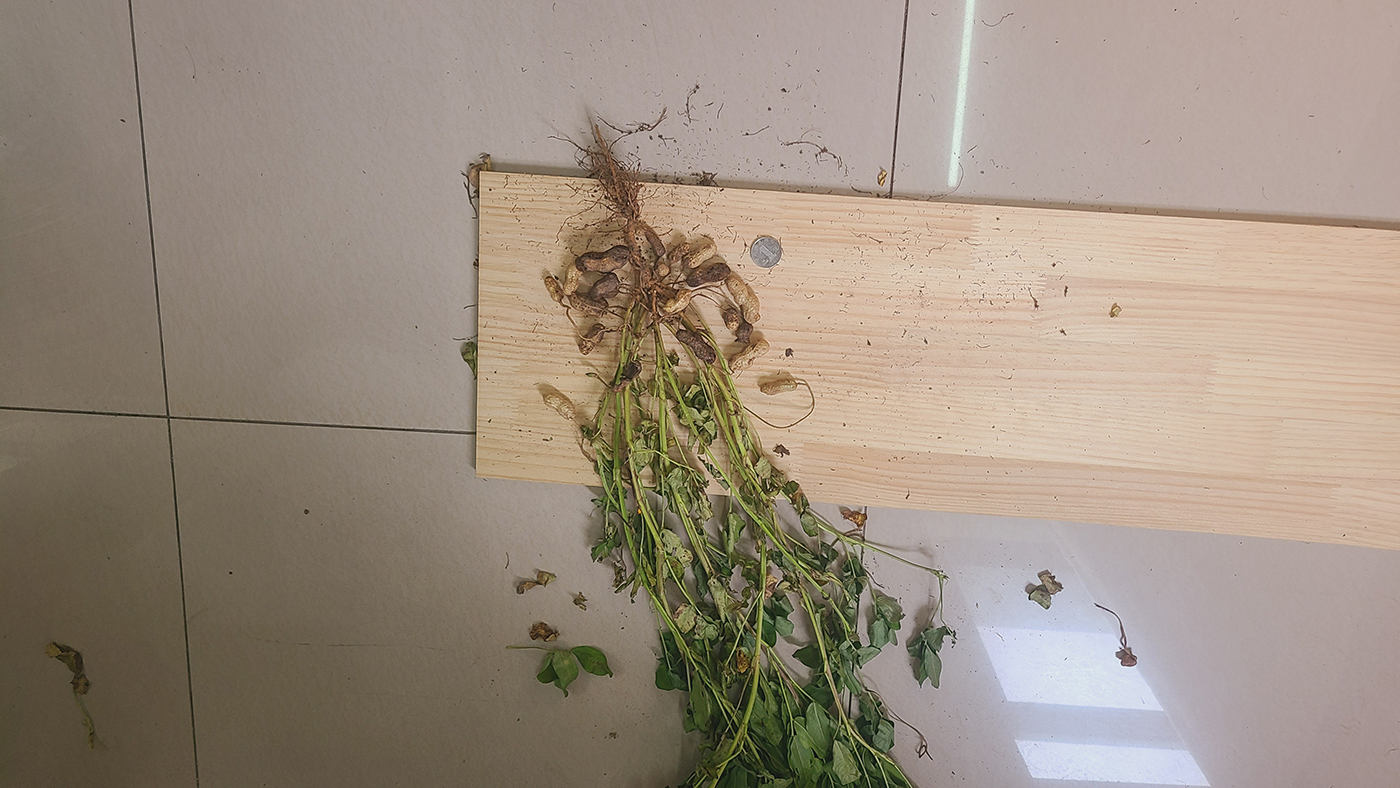h: (726, 278, 761, 323), (728, 338, 770, 371), (543, 392, 578, 421), (685, 244, 717, 268), (664, 289, 692, 315), (760, 378, 797, 396), (564, 262, 582, 296), (544, 276, 564, 303), (724, 307, 740, 331), (657, 264, 670, 276)
l: (576, 245, 631, 274), (675, 328, 717, 365), (687, 262, 732, 287), (612, 359, 643, 394), (570, 292, 609, 318), (589, 273, 620, 301), (580, 323, 605, 355), (644, 231, 666, 257), (668, 242, 690, 265), (736, 323, 754, 344)
